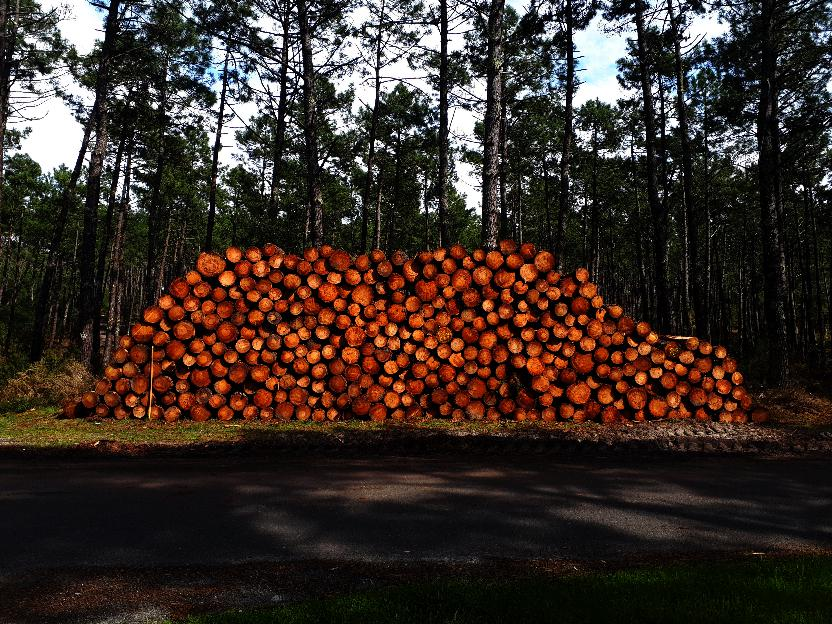object: (194, 250, 226, 276), (570, 348, 596, 372), (567, 381, 593, 405), (130, 320, 156, 343), (415, 278, 437, 302), (351, 283, 375, 305), (190, 365, 214, 387), (329, 250, 351, 272), (229, 362, 251, 384), (216, 320, 237, 343), (402, 258, 422, 282), (694, 352, 714, 376), (626, 387, 650, 407), (168, 277, 191, 297), (534, 250, 554, 272), (450, 268, 470, 290), (560, 276, 580, 298), (128, 344, 150, 364), (515, 388, 537, 408), (582, 398, 602, 420), (166, 340, 186, 361), (62, 399, 83, 419), (471, 267, 494, 285), (484, 249, 504, 269), (467, 378, 487, 398), (648, 397, 668, 417), (154, 292, 176, 310), (142, 304, 164, 322), (172, 321, 194, 339), (346, 326, 364, 348), (543, 334, 565, 352), (252, 389, 274, 407), (748, 406, 772, 422), (245, 244, 264, 264), (360, 355, 379, 375), (80, 388, 100, 407), (478, 330, 499, 348), (131, 374, 149, 395), (517, 242, 537, 260), (496, 268, 516, 286), (482, 280, 500, 300), (318, 282, 338, 300), (462, 288, 482, 306), (570, 296, 590, 314), (215, 300, 235, 318), (536, 348, 556, 366), (251, 364, 271, 382), (92, 376, 112, 394), (213, 377, 233, 395), (596, 385, 616, 403), (188, 404, 210, 420), (388, 304, 406, 323), (110, 344, 128, 363), (352, 395, 370, 414), (466, 401, 485, 419), (718, 355, 738, 372), (274, 401, 294, 418), (492, 341, 508, 362), (224, 245, 242, 263), (304, 296, 322, 314), (406, 376, 424, 394), (318, 390, 336, 408), (382, 391, 400, 409), (230, 392, 248, 410), (601, 403, 619, 421), (167, 305, 187, 321), (330, 332, 350, 348), (210, 359, 230, 375), (152, 376, 172, 392), (366, 385, 386, 401), (706, 390, 722, 410), (497, 302, 514, 320), (551, 321, 569, 338), (342, 346, 360, 363), (144, 361, 162, 378), (328, 377, 346, 394), (505, 253, 524, 269), (586, 319, 602, 338), (266, 333, 282, 352), (375, 346, 394, 362), (691, 386, 707, 405), (694, 404, 714, 419), (113, 402, 130, 419), (282, 253, 300, 269), (354, 253, 370, 271), (313, 258, 331, 274), (252, 259, 270, 275), (343, 268, 361, 284), (362, 268, 380, 284), (218, 270, 236, 286), (433, 272, 451, 288), (284, 272, 300, 290), (192, 280, 210, 296), (579, 282, 597, 298), (445, 298, 463, 314), (484, 310, 502, 326), (247, 310, 265, 326), (664, 340, 682, 356), (526, 358, 544, 374), (121, 361, 139, 377), (439, 364, 455, 382), (558, 368, 576, 384), (661, 370, 677, 388), (644, 378, 662, 394), (675, 380, 693, 396), (290, 388, 308, 404), (454, 389, 470, 407), (664, 391, 682, 407), (678, 398, 694, 416), (369, 401, 385, 419), (538, 405, 556, 421), (448, 244, 468, 258), (530, 376, 550, 390), (102, 392, 122, 406), (318, 306, 334, 323), (408, 311, 424, 328), (602, 319, 618, 336), (240, 323, 256, 340), (461, 326, 478, 342), (292, 357, 308, 374), (104, 363, 121, 379), (242, 379, 258, 396), (178, 393, 194, 410), (559, 402, 575, 419), (442, 256, 457, 274), (187, 339, 205, 354), (506, 339, 524, 354), (648, 348, 666, 363), (430, 388, 448, 403), (329, 355, 343, 374), (496, 323, 516, 336), (500, 237, 516, 253), (391, 249, 407, 265), (296, 260, 312, 276), (520, 264, 536, 280), (388, 273, 404, 289), (296, 284, 312, 300), (541, 311, 557, 327), (618, 318, 634, 334), (422, 319, 438, 335), (372, 331, 388, 347), (698, 338, 714, 354), (680, 349, 696, 365), (197, 350, 213, 366), (450, 351, 466, 367), (635, 354, 651, 370), (594, 362, 610, 378), (412, 362, 428, 378), (686, 369, 702, 385), (425, 372, 441, 388), (279, 372, 295, 388), (358, 374, 374, 390), (716, 378, 732, 394), (115, 378, 131, 394), (741, 390, 757, 406), (124, 391, 140, 407), (732, 408, 748, 424), (235, 260, 249, 278), (184, 270, 202, 284), (374, 293, 392, 307), (183, 296, 201, 310), (404, 297, 422, 311), (202, 314, 220, 328), (396, 324, 414, 338), (250, 336, 268, 350), (595, 346, 609, 364), (259, 348, 277, 362), (494, 365, 512, 379), (216, 406, 234, 420), (334, 315, 350, 330), (288, 315, 304, 330), (472, 315, 488, 330), (345, 364, 361, 379), (544, 364, 560, 379), (500, 399, 516, 414), (294, 404, 310, 419), (406, 404, 422, 419), (163, 404, 179, 419), (430, 248, 447, 262), (461, 255, 478, 269), (364, 321, 378, 338), (396, 353, 410, 370), (348, 381, 362, 398), (635, 321, 650, 336), (377, 261, 391, 277), (422, 264, 436, 280), (268, 268, 284, 282), (338, 284, 352, 300), (235, 297, 251, 311), (258, 297, 274, 311), (332, 298, 348, 312), (374, 311, 388, 327), (201, 330, 217, 344), (284, 334, 300, 348), (580, 335, 596, 349), (235, 340, 251, 354), (637, 340, 653, 354), (402, 341, 418, 355), (562, 341, 576, 357), (436, 343, 452, 357), (320, 343, 334, 359), (245, 349, 261, 363), (510, 354, 526, 368), (311, 363, 325, 379), (729, 371, 745, 385), (377, 374, 393, 388), (312, 378, 328, 392), (550, 381, 566, 395), (498, 382, 514, 396), (732, 384, 746, 400), (194, 388, 210, 402), (243, 404, 259, 418), (146, 404, 162, 418), (326, 407, 342, 421), (94, 404, 112, 416), (462, 307, 477, 321), (436, 312, 451, 326), (568, 326, 583, 340), (438, 328, 453, 342), (426, 355, 440, 370), (265, 375, 279, 390), (724, 396, 739, 410), (370, 249, 386, 262), (562, 311, 578, 324), (484, 390, 500, 403), (571, 408, 587, 421), (262, 243, 276, 257), (304, 246, 318, 260), (472, 248, 486, 262), (419, 250, 433, 264), (575, 267, 589, 281), (546, 270, 560, 284), (327, 271, 341, 285), (307, 274, 321, 288), (240, 278, 254, 292), (256, 279, 270, 293), (513, 281, 527, 295), (268, 287, 282, 301), (526, 289, 540, 303), (482, 298, 496, 312), (274, 299, 288, 313), (290, 302, 304, 316), (608, 303, 622, 317), (419, 304, 433, 318), (364, 304, 378, 318), (595, 308, 609, 322), (535, 328, 549, 342), (119, 333, 133, 347), (424, 335, 438, 349), (386, 336, 400, 350), (150, 348, 164, 362), (280, 349, 294, 363), (478, 350, 492, 364), (182, 352, 196, 366), (674, 360, 688, 374), (272, 361, 286, 375), (710, 364, 724, 378), (176, 366, 190, 380), (608, 366, 622, 380), (296, 374, 310, 388), (487, 376, 501, 390), (538, 391, 552, 405), (420, 393, 434, 407), (132, 404, 146, 418), (318, 244, 334, 256), (545, 286, 561, 298), (430, 296, 446, 308), (520, 328, 536, 340), (152, 332, 168, 344), (526, 342, 542, 354), (622, 348, 638, 360), (383, 360, 399, 372), (173, 380, 189, 392), (140, 394, 156, 406), (614, 394, 626, 410), (436, 404, 452, 416), (424, 406, 440, 418), (720, 408, 732, 424), (230, 311, 244, 324), (160, 319, 174, 332), (701, 377, 715, 390), (160, 392, 174, 405), (282, 290, 300, 300), (245, 289, 260, 301), (416, 346, 428, 361), (585, 376, 600, 388), (209, 394, 224, 406), (445, 381, 458, 394), (486, 406, 499, 419), (536, 278, 548, 292), (442, 284, 454, 298), (228, 286, 242, 298), (212, 288, 226, 300), (500, 290, 514, 302), (392, 290, 404, 304), (590, 294, 604, 306), (202, 300, 214, 314), (348, 302, 360, 316), (526, 310, 540, 322), (513, 314, 527, 326), (302, 315, 316, 327), (278, 320, 290, 334), (315, 326, 329, 338), (297, 327, 311, 339), (610, 331, 624, 343), (626, 333, 640, 345), (451, 338, 465, 350), (212, 342, 226, 354), (362, 342, 374, 356), (714, 344, 726, 358), (464, 346, 476, 360), (224, 350, 238, 362), (306, 350, 320, 362), (554, 356, 568, 368), (624, 362, 636, 376), (476, 366, 490, 378), (456, 370, 468, 384), (274, 389, 288, 401), (260, 406, 274, 418), (451, 408, 465, 420), (513, 408, 527, 420), (354, 312, 366, 325), (452, 318, 465, 330), (384, 323, 396, 336), (646, 330, 658, 343), (686, 337, 698, 350), (611, 350, 623, 363), (465, 362, 478, 374), (616, 381, 628, 394), (338, 395, 350, 408), (620, 406, 632, 419), (376, 280, 388, 292), (536, 296, 548, 308), (518, 300, 530, 312), (190, 310, 202, 322), (295, 344, 307, 356), (399, 368, 411, 380), (635, 372, 647, 384), (402, 392, 414, 404), (309, 396, 321, 408), (392, 408, 404, 420), (600, 333, 610, 347), (161, 360, 175, 370), (648, 366, 662, 376), (394, 377, 404, 391), (412, 328, 423, 340), (341, 410, 355, 419), (576, 314, 587, 325), (554, 304, 566, 314), (636, 409, 648, 419), (526, 410, 538, 420), (312, 410, 324, 420), (668, 412, 680, 420)
pile: (47, 240, 775, 430)
